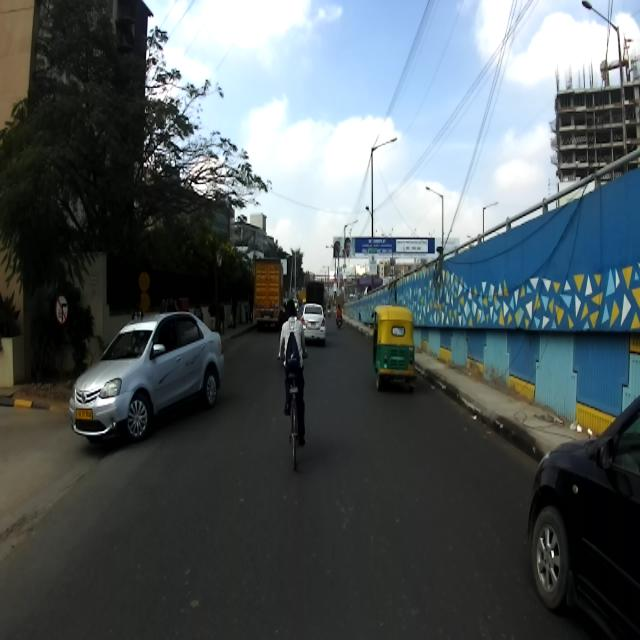auto ahead at: (366, 302, 419, 406)
bicycle ahead at: (280, 372, 308, 481)
car ahead at: (525, 384, 639, 640), (72, 300, 232, 450)
